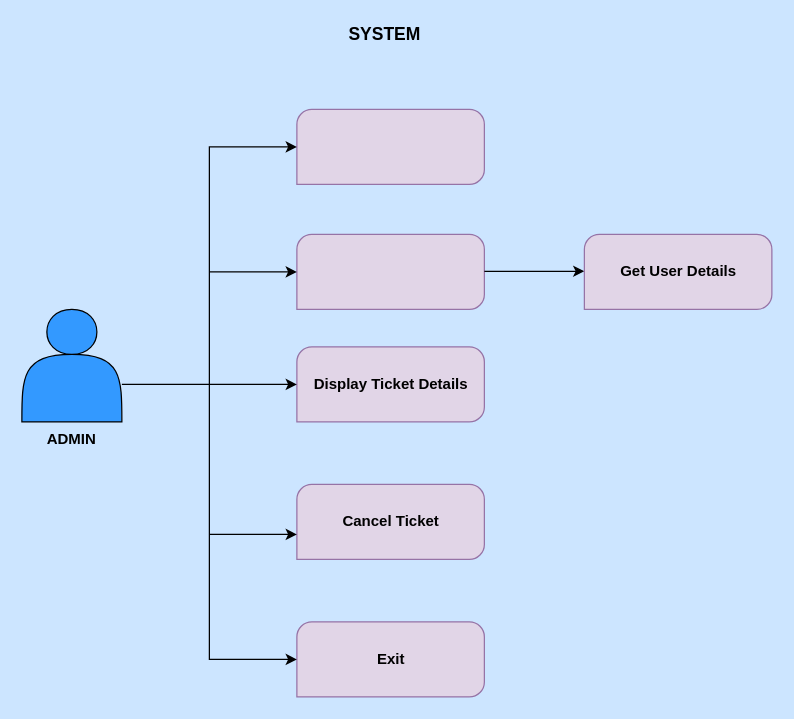
Some shapes in this 794 by 719 pixel diagram are drawn without their labels. Each missing label, with the centre of its shape:
Book a new ticket: (390,271)
Display Choice: (390,146)
